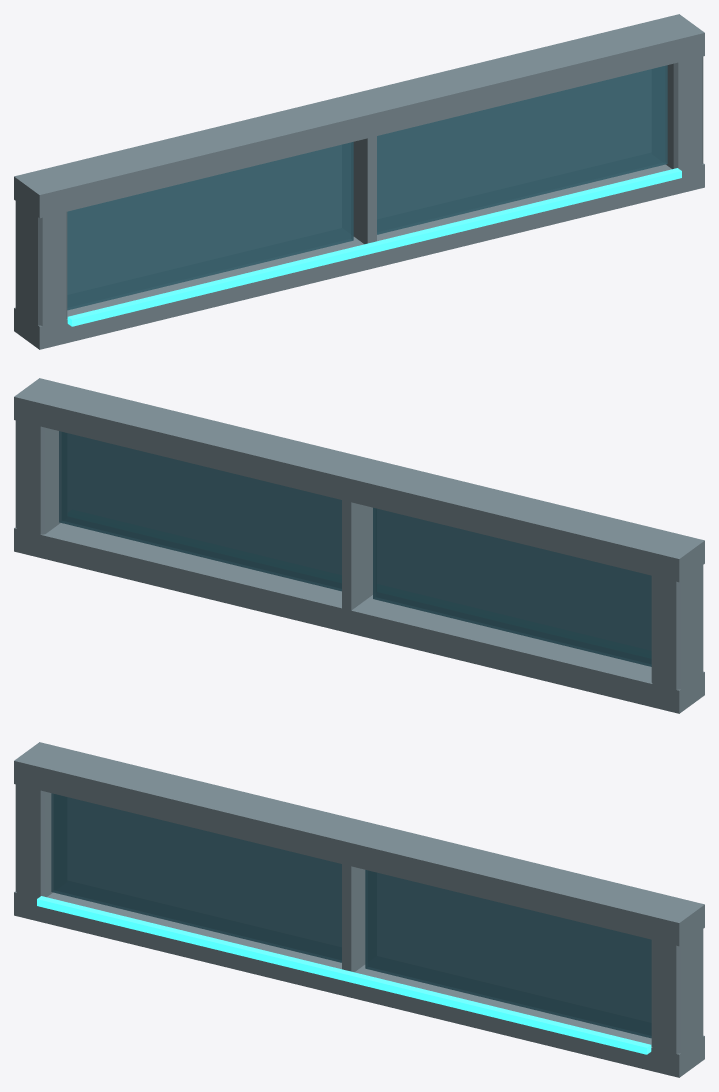
File: Hab_Slit_Window.glb
The picture shows the model from 3 angles, top to bottom: view 1: azimuth 30°, elevation 25°; view 2: azimuth 150°, elevation 25°; view 3: azimuth 330°, elevation 25°; orthographic projection.
Visible parts, largest first — view 1: Hab_Slit_Window; view 2: Hab_Slit_Window; view 3: Hab_Slit_Window.
Boxes of the visible parts, x1,y1,x2,y2 form: Hab_Slit_Window: [14, 14, 704, 349]; Hab_Slit_Window: [14, 378, 704, 713]; Hab_Slit_Window: [14, 742, 704, 1077].
Size of the model in its own units: 1.8 by 0.4 by 0.142.
